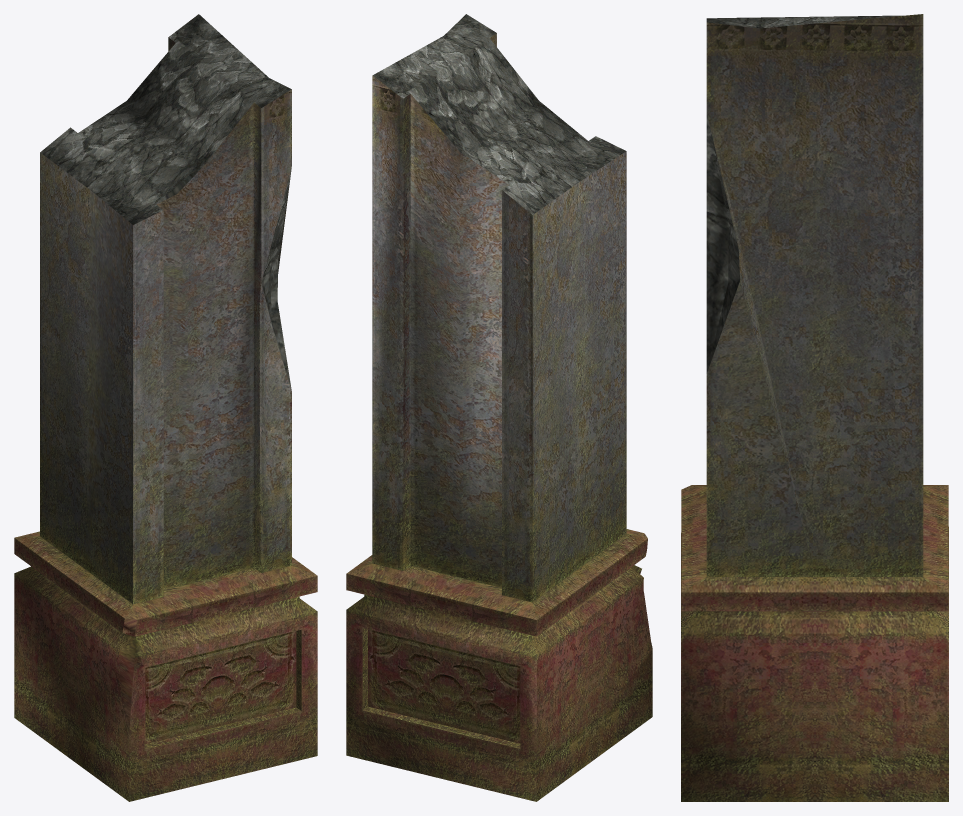
Rendered from fortressa_pillar_01.fbx.
The picture shows the model from 3 angles, left to right: view 1: azimuth 30°, elevation 25°; view 2: azimuth 150°, elevation 25°; view 3: azimuth 270°, elevation 25°; orthographic projection. The views are drawn at different scales.
Visible parts, largest first — view 1: fortressA_pillar_01; view 2: fortressA_pillar_01; view 3: fortressA_pillar_01.
Part boxes in pixels (x1,y1,x2,y2): fortressA_pillar_01: (14, 14, 317, 801); fortressA_pillar_01: (346, 14, 652, 801); fortressA_pillar_01: (681, 14, 948, 801).
Bounding box in the file's own units: 3.94 × 13.37 × 4.16.
